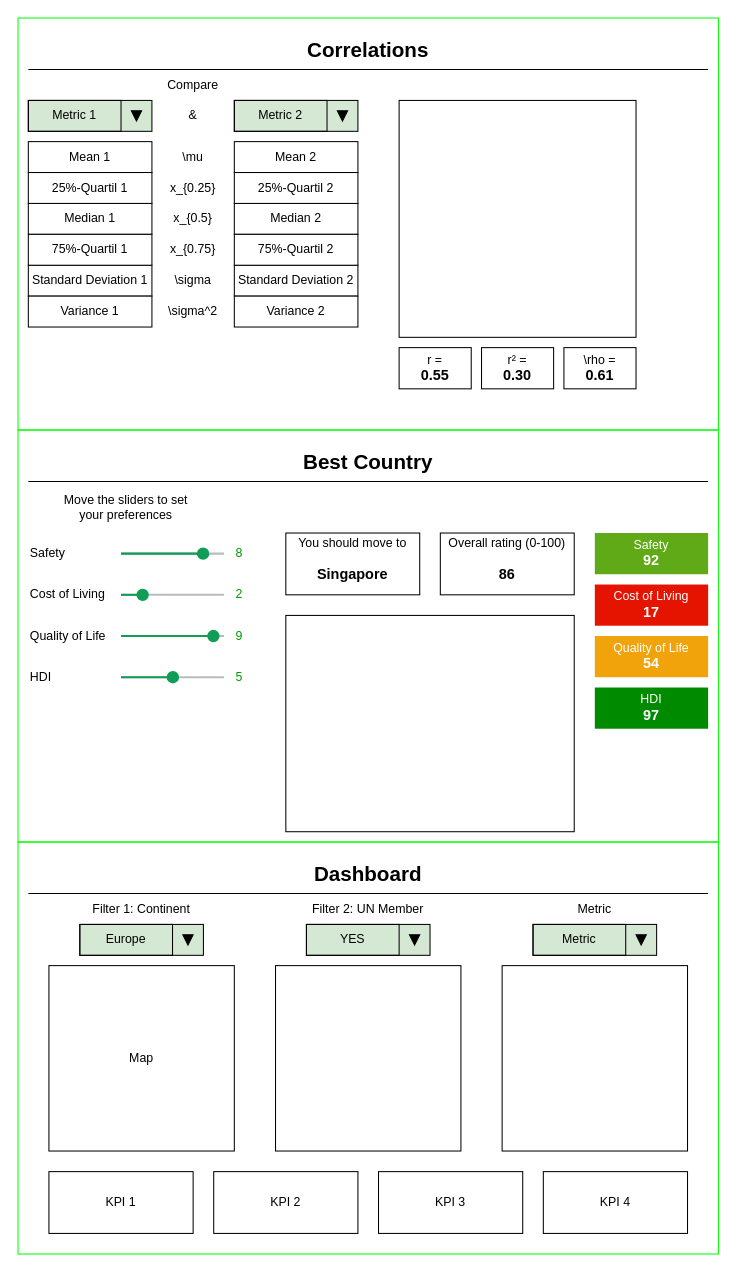
The diagram is 736 pixels wide and 1272 high, and some of its shapes have lost their labels. The shapes that lost their labels are listed below. From the top down, each one's centre as x and y in pixels, then its label:
(517,218): Scatter Plot
(429,723): Bar Plot
